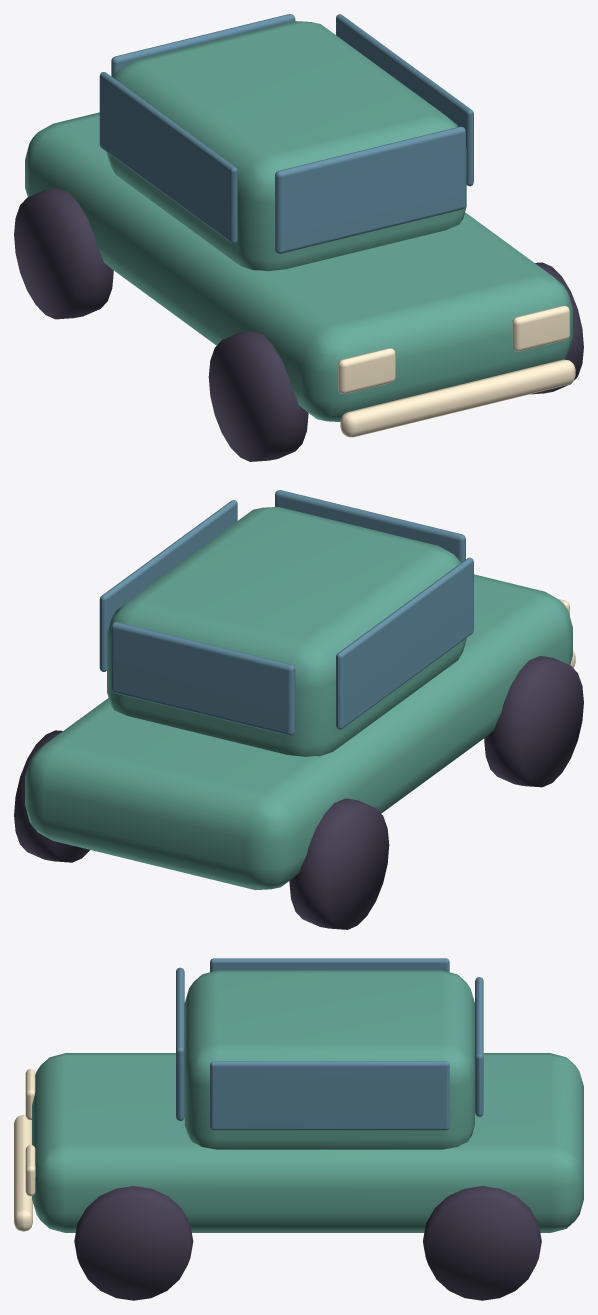
The model's file is Parked_van.fbx.
3 views of the same model, one above another, from view 1: azimuth 30°, elevation 25°; view 2: azimuth 150°, elevation 25°; view 3: azimuth 270°, elevation 25° (orthographic). The views are drawn at different scales.
Parts seen in each view (by area): view 1: Town_Parked_van Car body.001, Town_Parked_van Cabin.001, Town_Parked_van Windshield.001, Town_Parked_van Side window.002, Town_Parked_van Tire.004, Town_Parked_van Tire.005, Town_Parked_van Bumper.001, Town_Parked_van Side window.003, Town_Parked_van Headlamp.003, Town_Parked_van Headlamp.002, Town_Parked_van Rear window.001, Town_Parked_van Tire.006; view 2: Town_Parked_van Car body.001, Town_Parked_van Cabin.001, Town_Parked_van Rear window.001, Town_Parked_van Side window.002, Town_Parked_van Tire.005, Town_Parked_van Tire.004, Town_Parked_van Side window.003, Town_Parked_van Windshield.001, Town_Parked_van Tire.007; view 3: Town_Parked_van Car body.001, Town_Parked_van Cabin.001, Town_Parked_van Side window.003, Town_Parked_van Tire.006, Town_Parked_van Tire.007, Town_Parked_van Side window.002, Town_Parked_van Bumper.001, Town_Parked_van Windshield.001, Town_Parked_van Rear window.001, Town_Parked_van Headlamp.003, Town_Parked_van Headlamp.002.
Part boxes in pixels (<box>): Town_Parked_van Car body.001: <box>25,112,572,421</box>; Town_Parked_van Cabin.001: <box>107,21,466,271</box>; Town_Parked_van Windshield.001: <box>275,126,465,253</box>; Town_Parked_van Side window.002: <box>99,72,237,243</box>; Town_Parked_van Tire.004: <box>208,330,308,461</box>; Town_Parked_van Tire.005: <box>14,188,113,319</box>; Town_Parked_van Bumper.001: <box>340,359,575,437</box>; Town_Parked_van Side window.003: <box>336,14,473,186</box>; Town_Parked_van Headlamp.003: <box>512,305,569,351</box>; Town_Parked_van Headlamp.002: <box>338,348,395,393</box>; Town_Parked_van Rear window.001: <box>111,14,295,77</box>; Town_Parked_van Tire.006: <box>531,262,583,394</box>; Town_Parked_van Car body.001: <box>25,574,572,890</box>; Town_Parked_van Cabin.001: <box>107,507,466,756</box>; Town_Parked_van Rear window.001: <box>111,622,295,735</box>; Town_Parked_van Side window.002: <box>336,557,473,729</box>; Town_Parked_van Tire.005: <box>289,798,389,929</box>; Town_Parked_van Tire.004: <box>484,656,583,787</box>; Town_Parked_van Side window.003: <box>99,500,237,671</box>; Town_Parked_van Windshield.001: <box>275,490,465,562</box>; Town_Parked_van Tire.007: <box>14,730,89,862</box>; Town_Parked_van Car body.001: <box>32,1053,583,1232</box>; Town_Parked_van Cabin.001: <box>184,970,474,1149</box>; Town_Parked_van Side window.003: <box>210,1061,449,1130</box>; Town_Parked_van Tire.006: <box>74,1186,193,1300</box>; Town_Parked_van Tire.007: <box>423,1186,541,1300</box>; Town_Parked_van Side window.002: <box>210,958,449,972</box>; Town_Parked_van Bumper.001: <box>14,1115,32,1231</box>; Town_Parked_van Windshield.001: <box>176,967,184,1120</box>; Town_Parked_van Rear window.001: <box>475,977,483,1116</box>; Town_Parked_van Headlamp.003: <box>25,1145,35,1196</box>; Town_Parked_van Headlamp.002: <box>25,1069,35,1120</box>.
Size of the model in its own units: 222 by 173 by 392.
